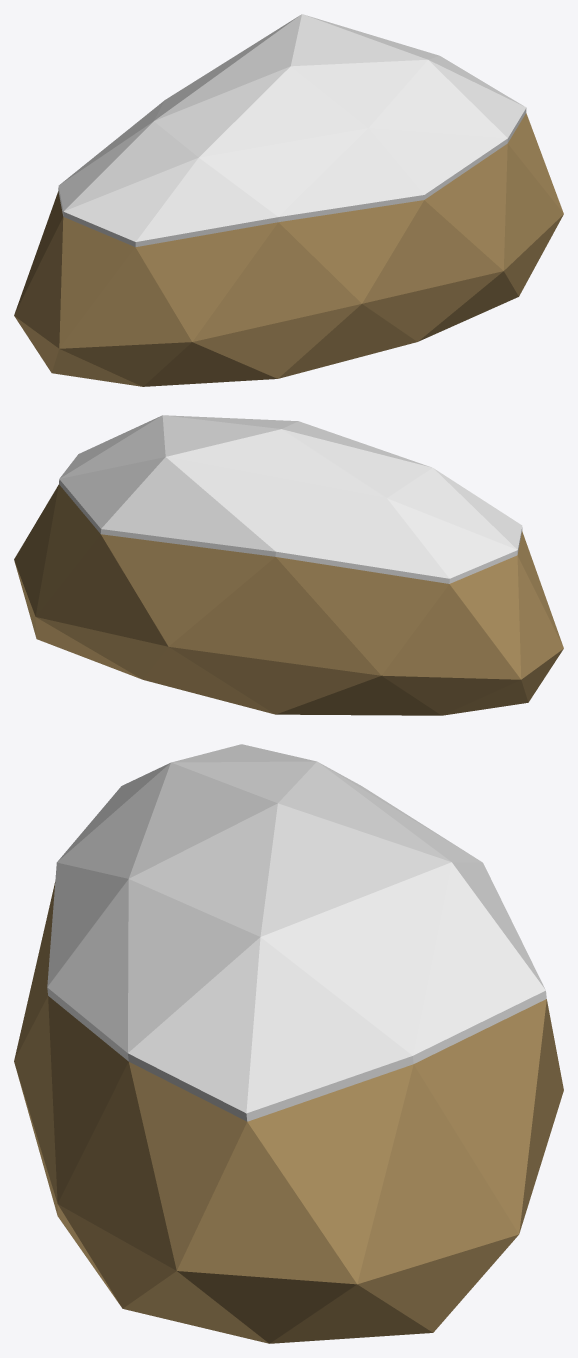
The model's file is Stone3b.fbx.
3 renders of one model, top to bottom at view 1: azimuth 30°, elevation 25°; view 2: azimuth 150°, elevation 25°; view 3: azimuth 270°, elevation 25°, orthographic. The views are drawn at different scales.
Parts seen in each view (by area): view 1: Stone3.001; view 2: Stone3.001; view 3: Stone3.001.
Part boxes in pixels (x1,y1,x2,y2): Stone3.001: (14,14,563,386); Stone3.001: (14,415,563,715); Stone3.001: (14,744,563,1343).
Bounding box in the file's own units: 211 × 91.84 × 123.
